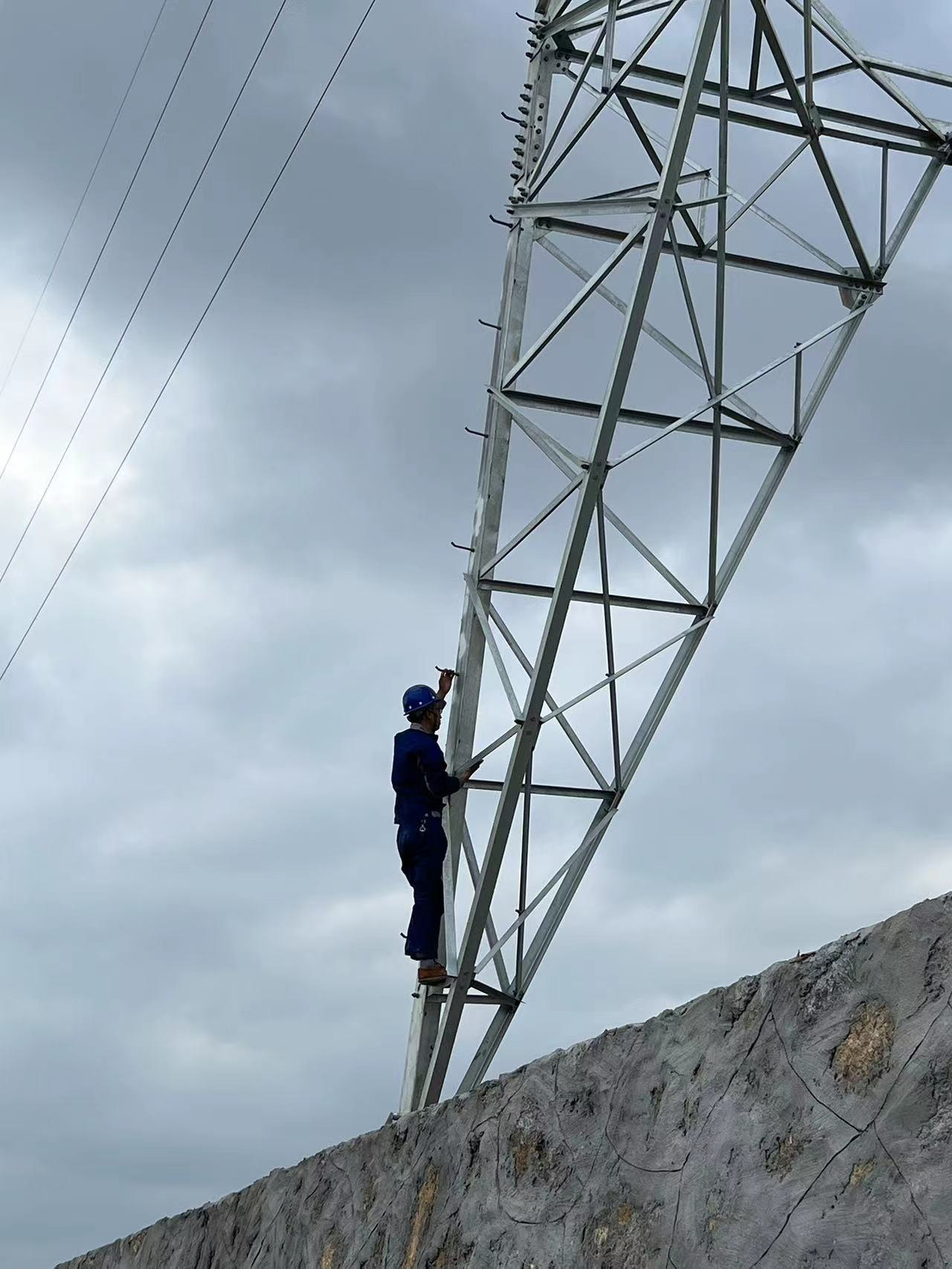未系安全绳的工作人员: (390, 668, 484, 984)
